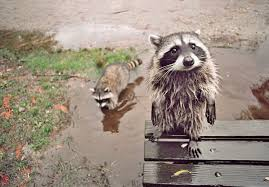raccoon: (145, 28, 230, 160), (87, 54, 139, 117)
